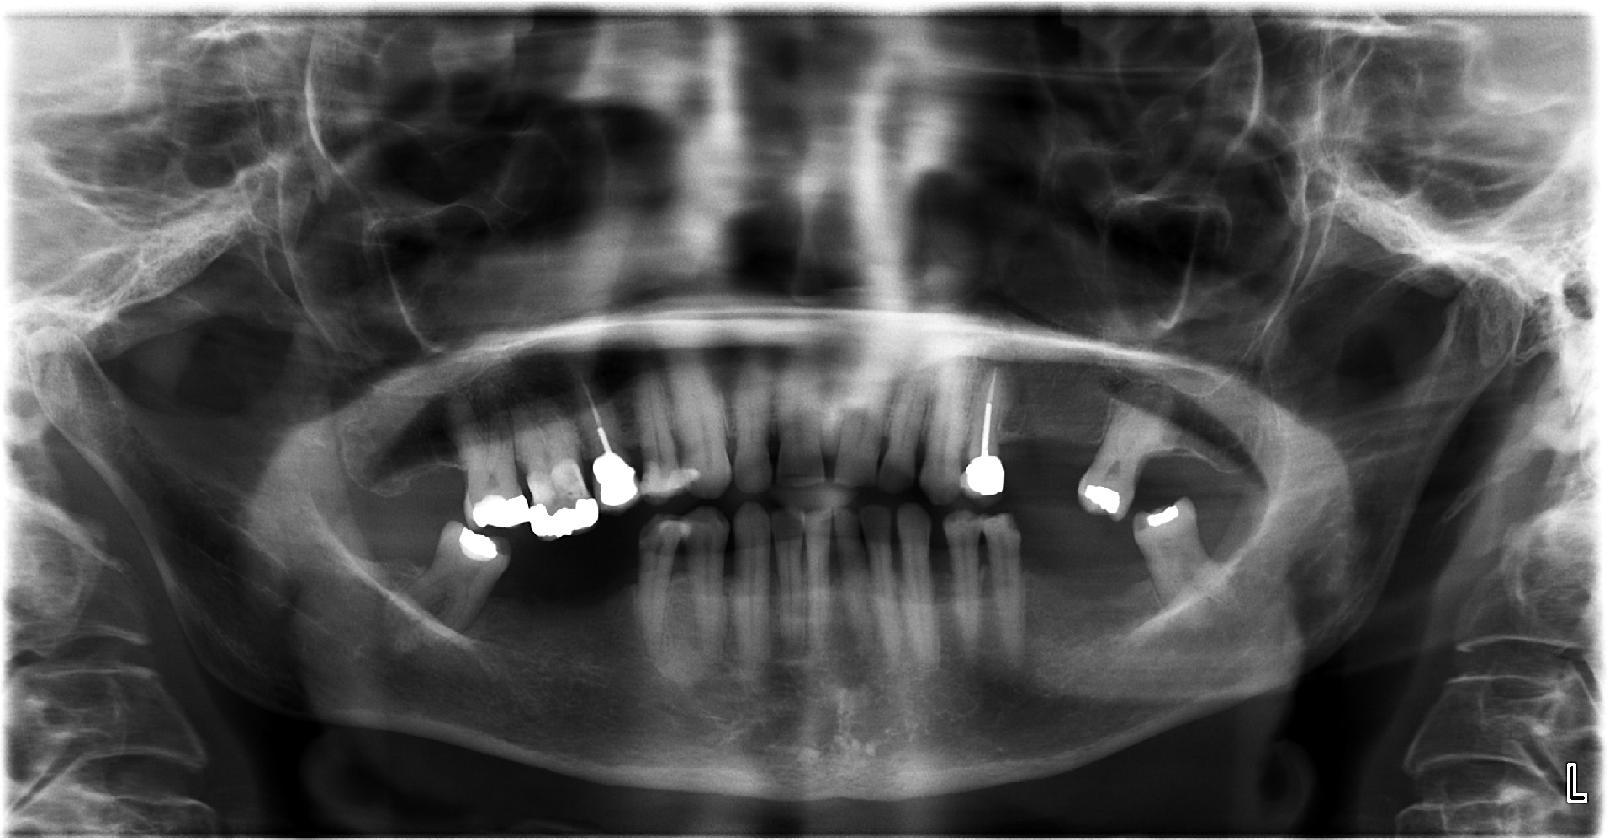Erupted: (414, 518, 509, 645), (1131, 496, 1226, 618)
